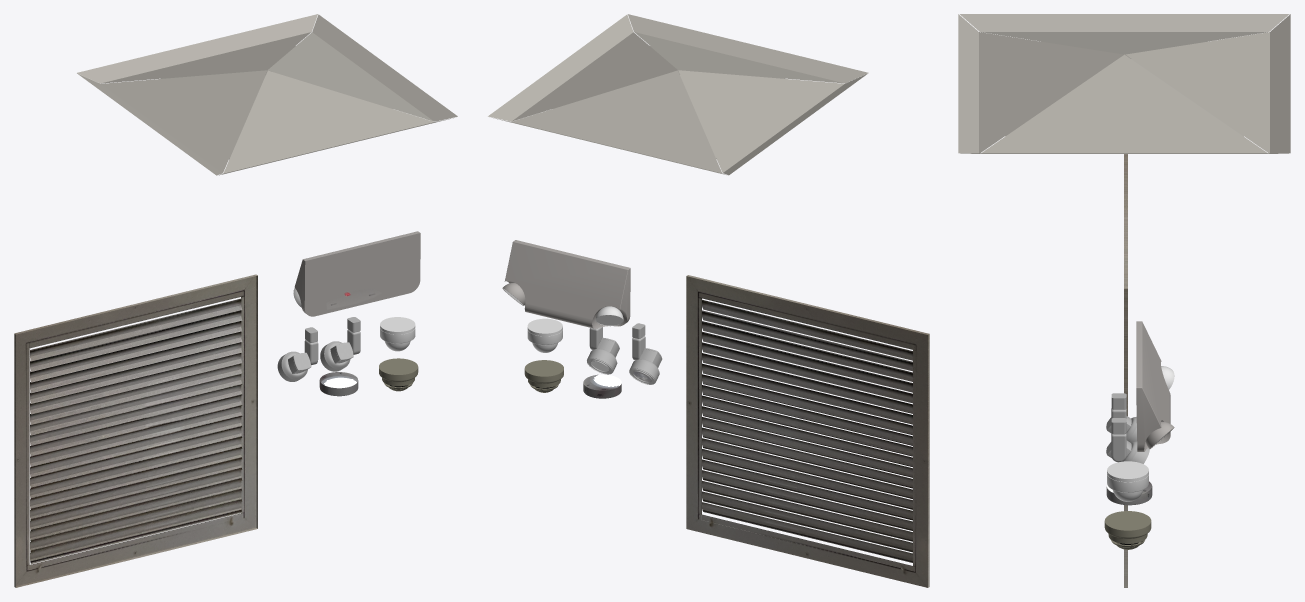
The model's file is random_architectural_details.glb.
The picture shows the model from 3 angles, left to right: view 1: azimuth 30°, elevation 25°; view 2: azimuth 150°, elevation 25°; view 3: azimuth 270°, elevation 25°; orthographic projection. The views are drawn at different scales.
Visible parts, largest first — view 1: Vent, Ceiiling Vent, Emergency Light, Smoke Detector, Security Camera, Round Ceiling Light, Cube.004, Cube.002; view 2: Vent, Ceiiling Vent, Emergency Light, Smoke Detector, Security Camera, Cube.002, Cube.004, Round Ceiling Light; view 3: Ceiiling Vent, Emergency Light, Smoke Detector, Security Camera, Vent, Cube.004, Cube.001.
Part boxes in pixels (x1,y1,x2,y2): Vent: (14,274,257,587); Ceiiling Vent: (77,14,457,175); Emergency Light: (293,231,420,316); Smoke Detector: (379,358,418,391); Security Camera: (380,317,415,351); Round Ceiling Light: (319,372,358,396); Cube.004: (320,341,353,371); Cube.002: (277,351,311,381); Vent: (686,275,929,587); Ceiiling Vent: (488,14,868,175); Emergency Light: (502,240,630,328); Smoke Detector: (524,360,563,392); Security Camera: (527,318,562,352); Cube.002: (629,348,662,384); Cube.004: (587,337,619,374); Round Ceiling Light: (583,374,621,398); Ceiiling Vent: (958,14,1290,153); Emergency Light: (1136,321,1174,451); Smoke Detector: (1104,511,1151,549); Security Camera: (1107,461,1148,501); Vent: (1124,154,1127,587); Cube.004: (1106,440,1149,463); Cube.001: (1111,433,1126,462).
Bounding box in the file's own units: 3.41 × 3.6 × 2.01.
18 materials, 5 textured.
